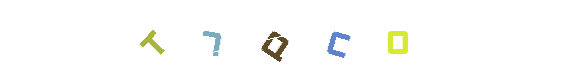7: (235, 0, 315, 80)
C: (252, 0, 332, 80)
O: (357, 0, 437, 80)
Q: (245, 0, 325, 80)
T: (113, 0, 193, 80)
